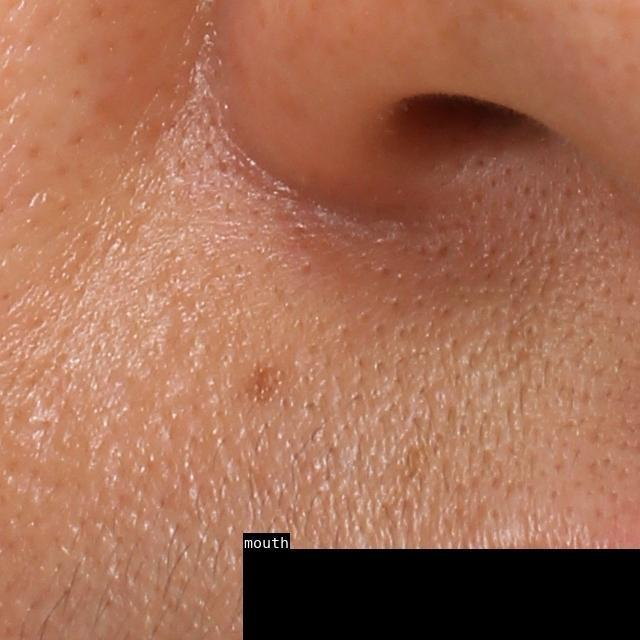nevus: (245, 359, 281, 403)
